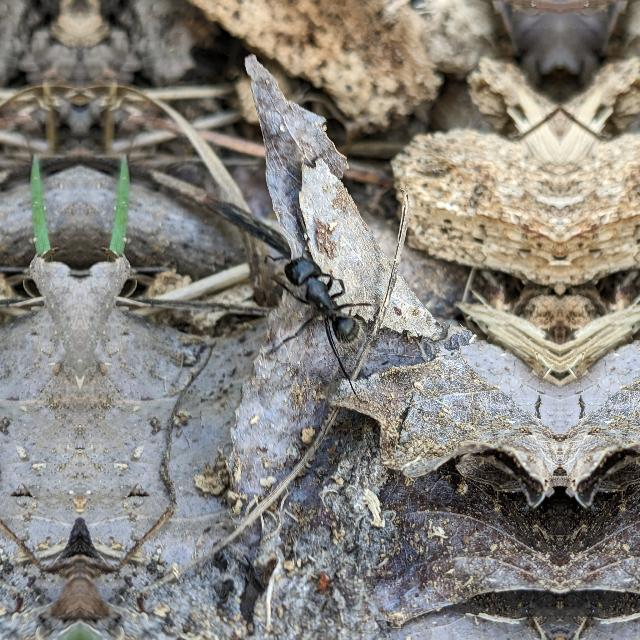Camponotus: (253, 227, 385, 367)
